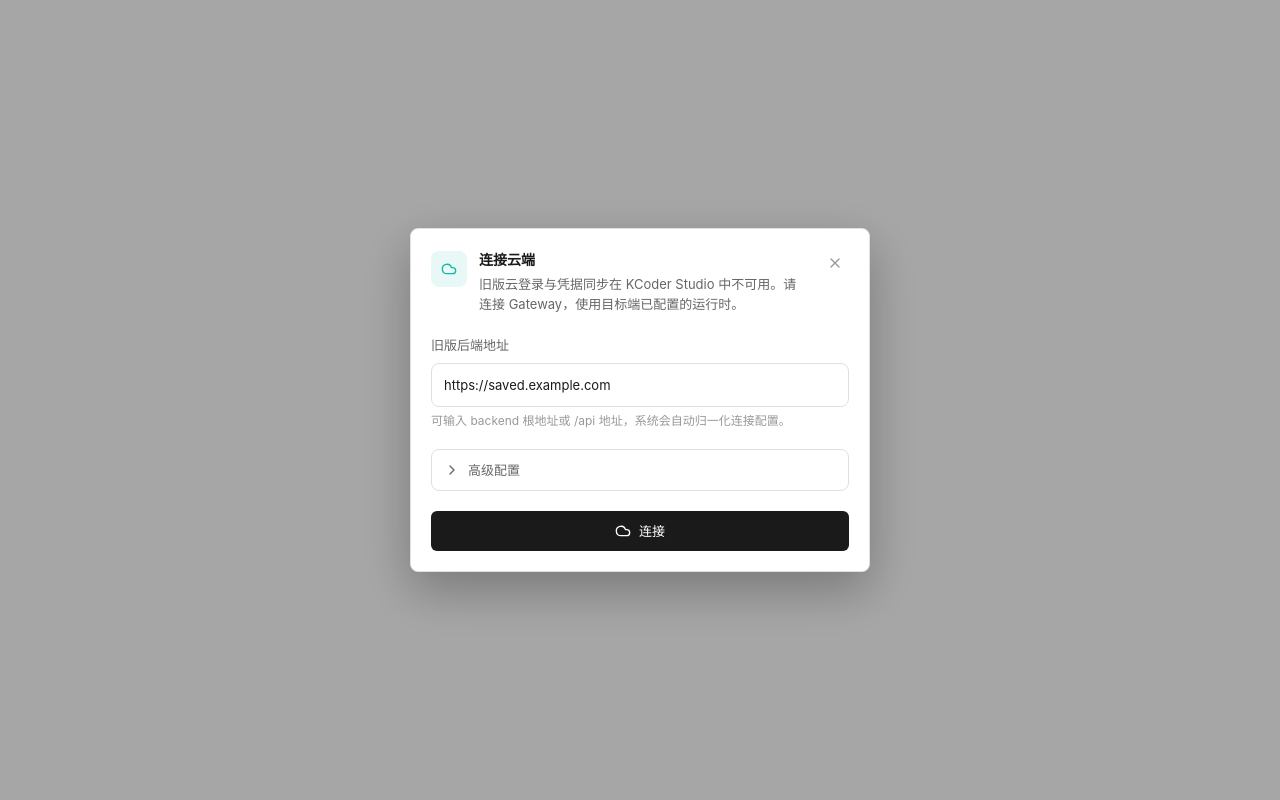
Test case: CloudConnectionDialog › keeps the optional Socket URL in collapsed advanced settings
The width and height of the screenshot is (1280, 800).
Click the heading with test id "cloud-connection-advanced-toggle" at (482, 470), box [444, 462, 520, 478]
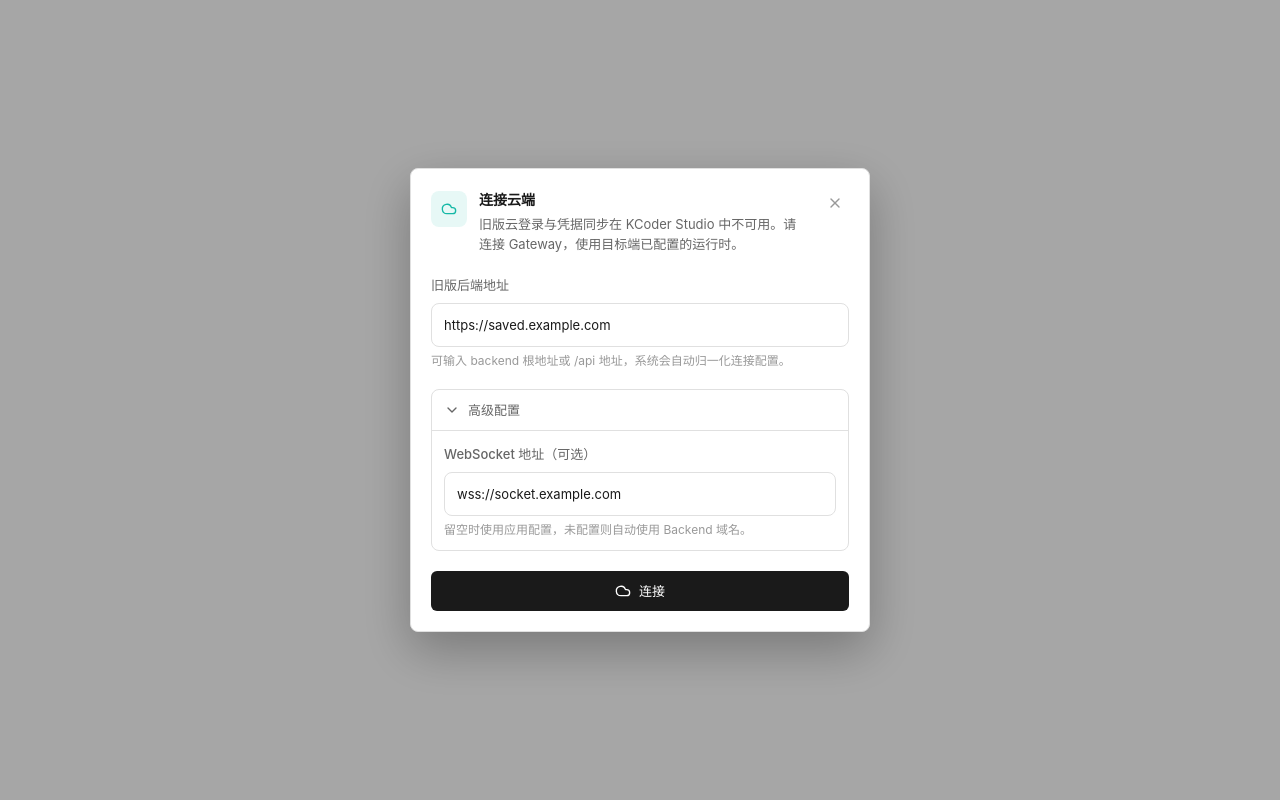
Now the field with test id "cloud-socket-url-input" holds "wss://socket.example.com", box [444, 472, 836, 516]
